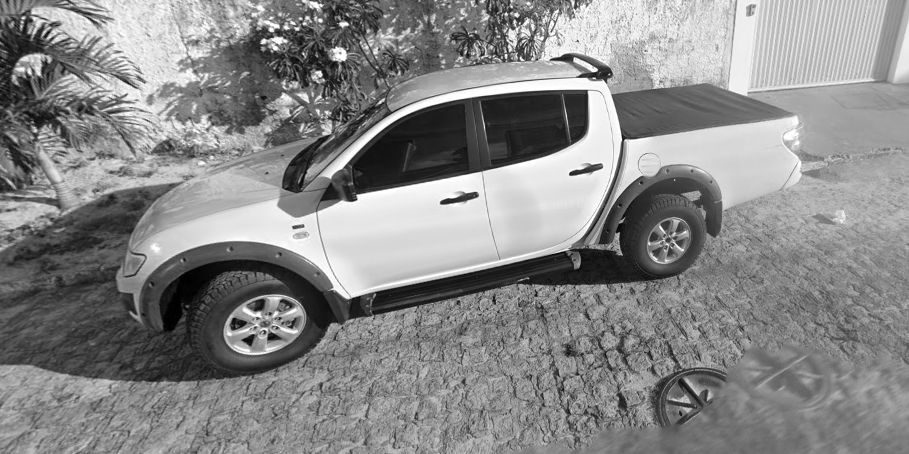car: (113, 49, 804, 378)
